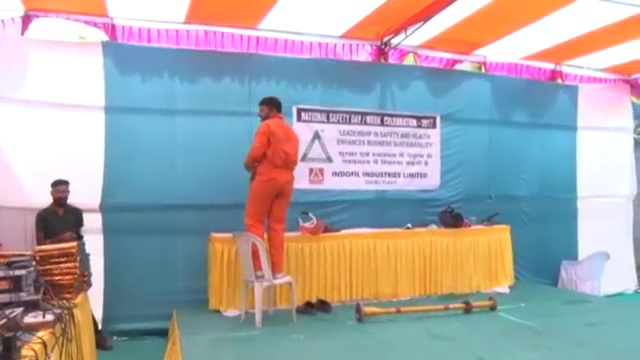helmet_off: (256, 98, 282, 121), (51, 176, 70, 207)
person: (240, 98, 302, 279), (32, 176, 89, 244)
